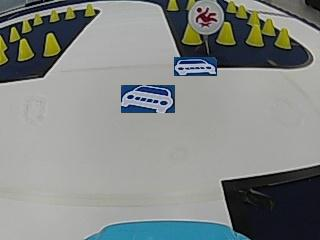cone: (216, 22, 235, 46), (245, 23, 263, 47), (43, 32, 60, 57), (181, 24, 201, 45), (274, 27, 291, 49), (17, 38, 33, 61), (262, 17, 275, 35), (236, 3, 246, 19), (9, 26, 19, 42), (65, 6, 76, 20), (20, 19, 31, 33), (84, 3, 95, 16), (49, 9, 59, 22), (226, 0, 236, 13), (167, 0, 178, 11), (33, 13, 43, 25)
tumble: (191, 3, 222, 30)
